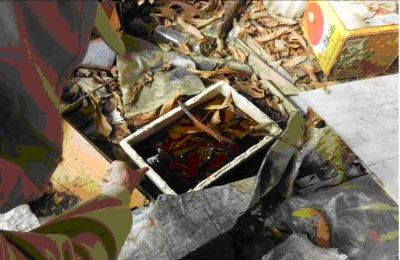bottle: (296, 1, 399, 80)
styrofoam: (119, 79, 285, 195)
